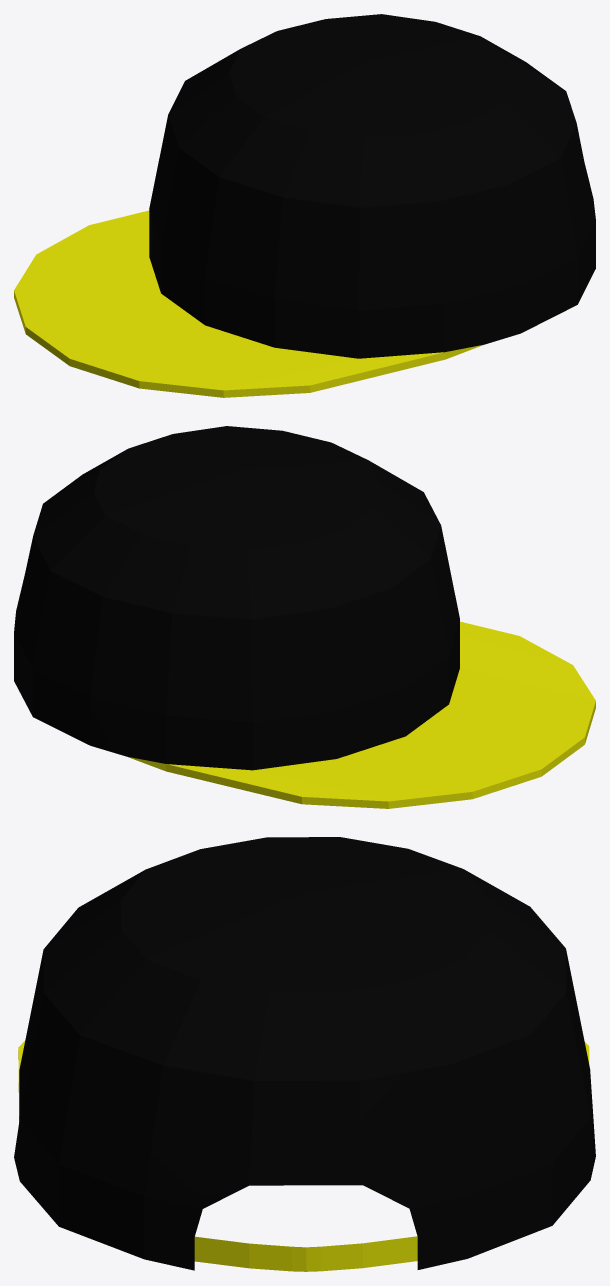
File: Hat.fbx
3 views of the same model, one above another, from view 1: azimuth 30°, elevation 25°; view 2: azimuth 150°, elevation 25°; view 3: azimuth 270°, elevation 25° (orthographic). The views are drawn at different scales.
Parts seen in each view (by area): view 1: polySurface1167 Snapback; view 2: polySurface1167 Snapback; view 3: polySurface1167 Snapback.
Part boxes in pixels (x1,y1,x2,y2): polySurface1167 Snapback: (14,14,595,397); polySurface1167 Snapback: (14,426,595,808); polySurface1167 Snapback: (14,837,595,1271).
Bounding box in the file's own units: 10891 × 4204 × 8088.
